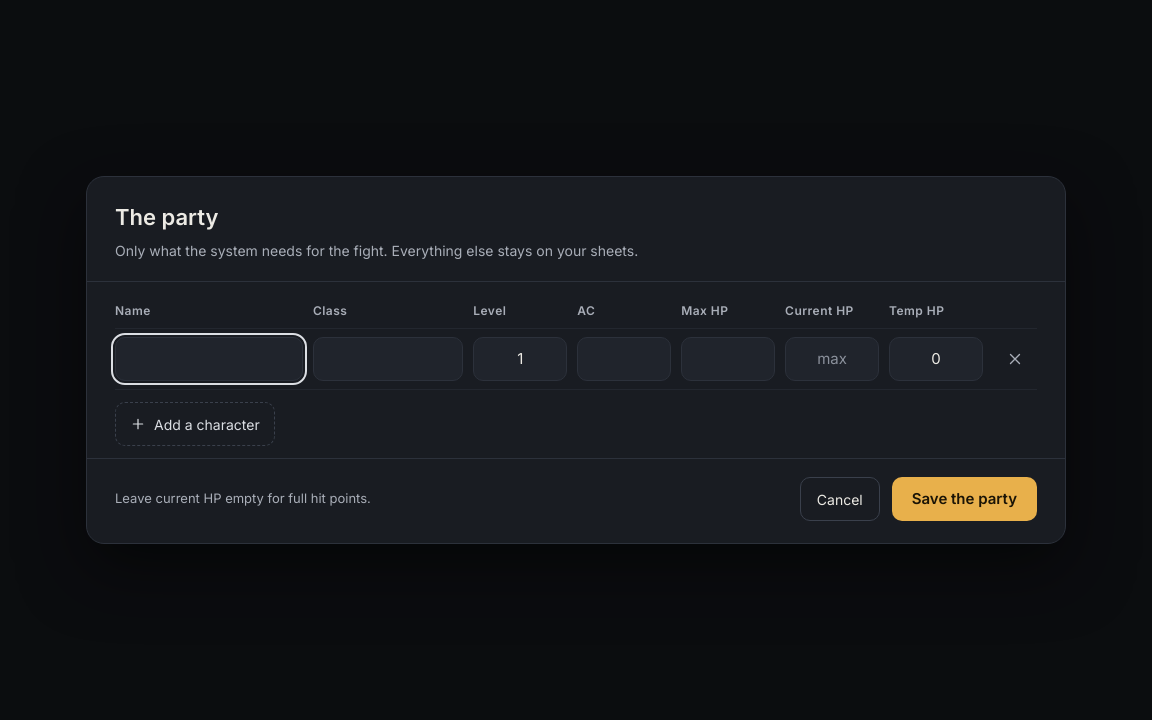
PartyDialog › validates the party as the form does, and stays open
Step 1. Click the button "Save the party" → (964, 499), box [892,477,1037,521]
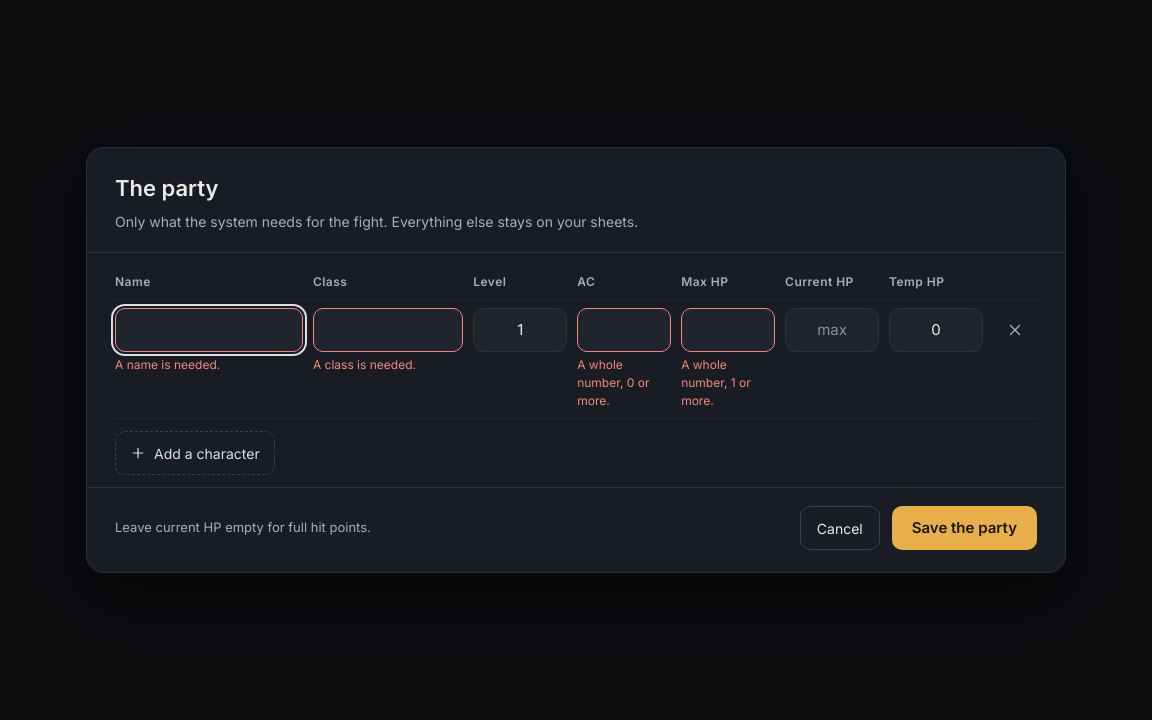
Check: the text "A name is needed." is shown, box [115,357,220,372]
